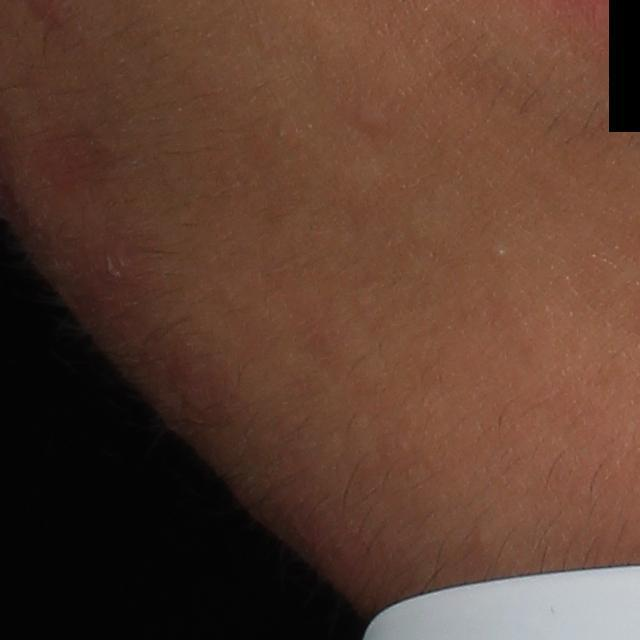comedo: (349, 100, 386, 132), (492, 247, 508, 259)
